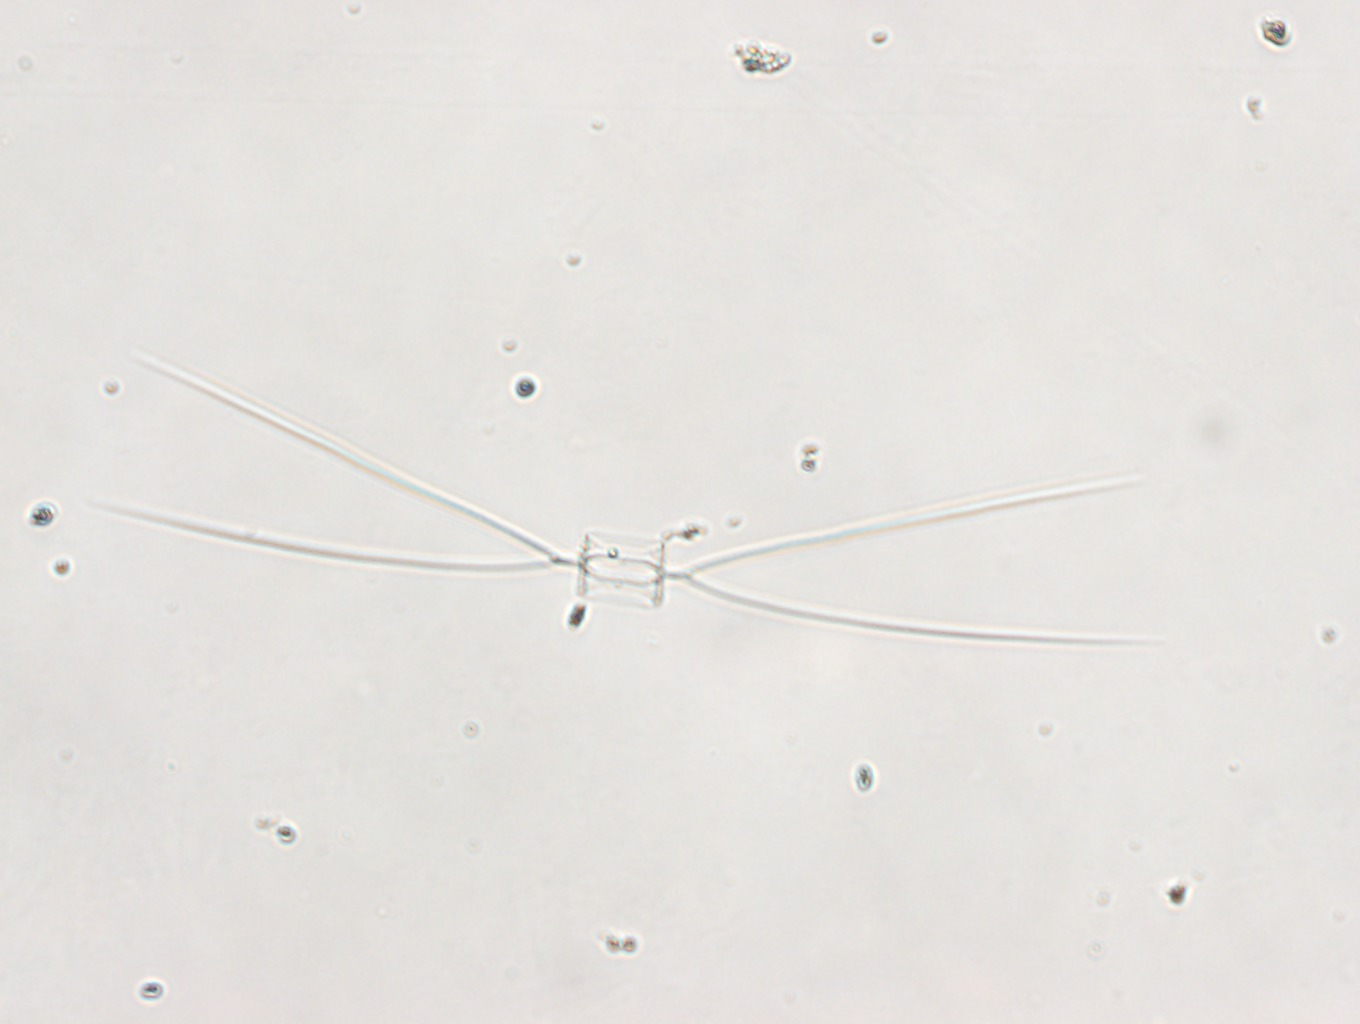chaetoceros: (85, 352, 1169, 648)
